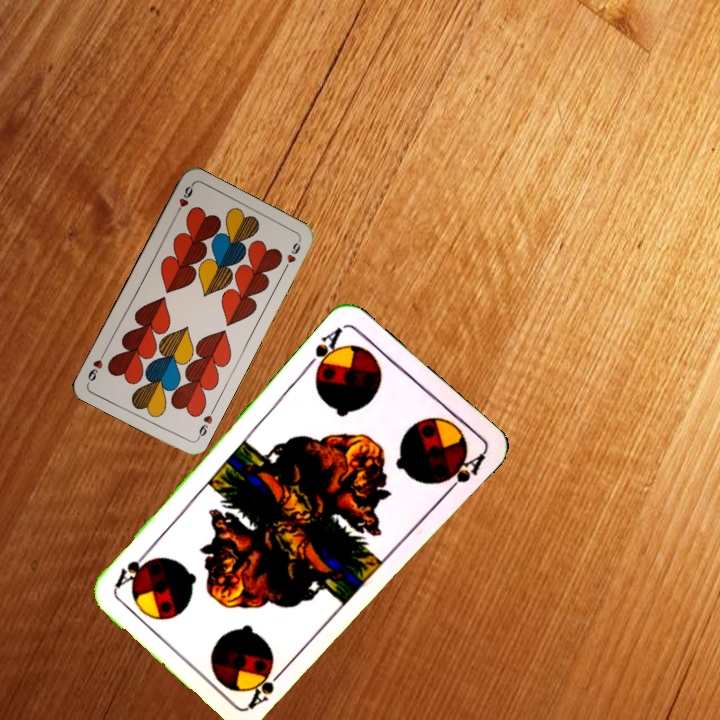H9: (171, 181, 196, 219), (193, 405, 217, 442)
SA: (301, 322, 346, 379), (244, 661, 291, 710)
